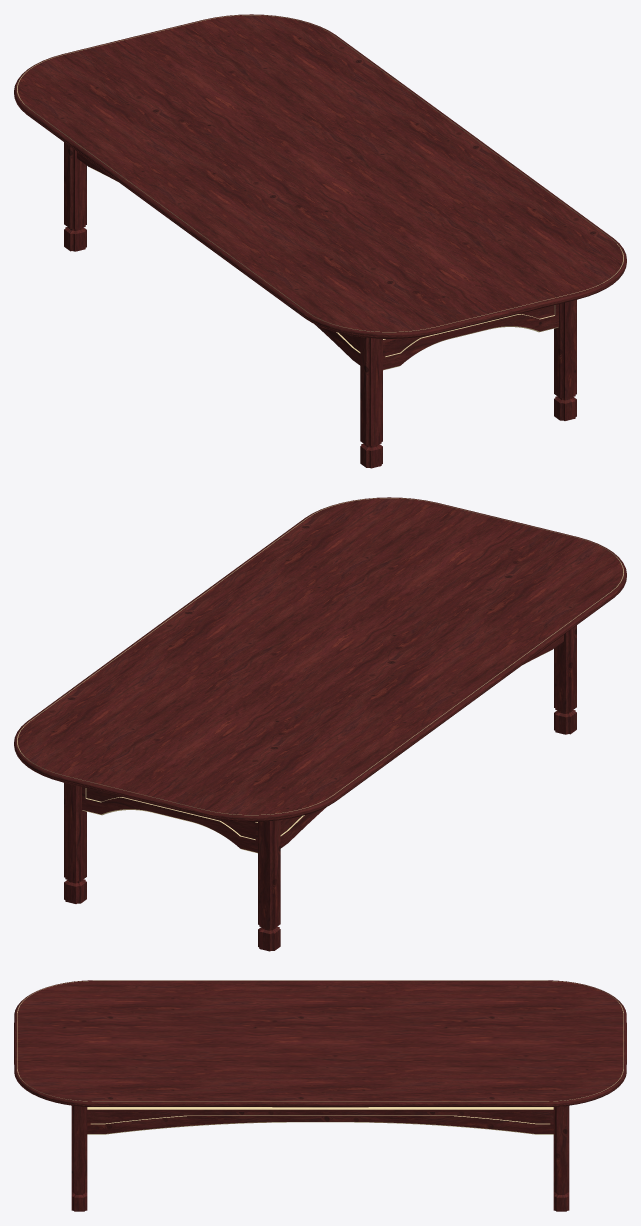
File: large_dining_room_table.glb
3 views of the same model, one above another, from view 1: azimuth 30°, elevation 25°; view 2: azimuth 150°, elevation 25°; view 3: azimuth 270°, elevation 25° (orthographic). The views are drawn at different scales.
Visible parts, largest first — view 1: Material2 (×2); view 2: Material2 (×2); view 3: Material2 (×2).
Part boxes in pixels (left/top/right/bottom): Material2 (×2): left=14, top=14, right=626, bottom=468; Material2 (×2): left=14, top=497, right=626, bottom=951; Material2 (×2): left=14, top=980, right=626, bottom=1211.
Bounding box in the file's own units: 65.34 × 31.75 × 137.
Materials: 2 (2 with a texture image).
